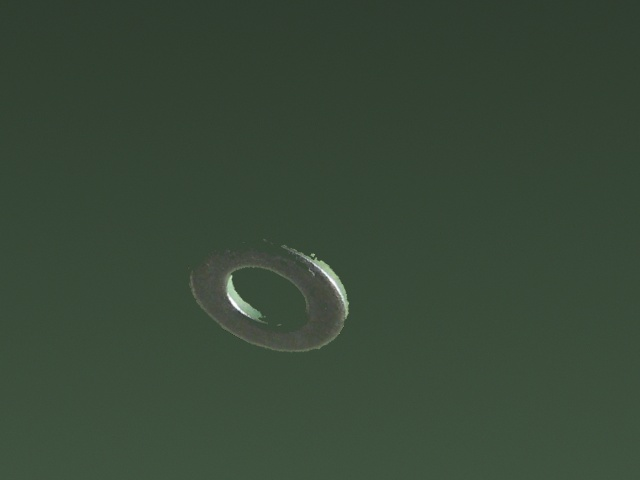washer: (187, 238, 349, 352)
